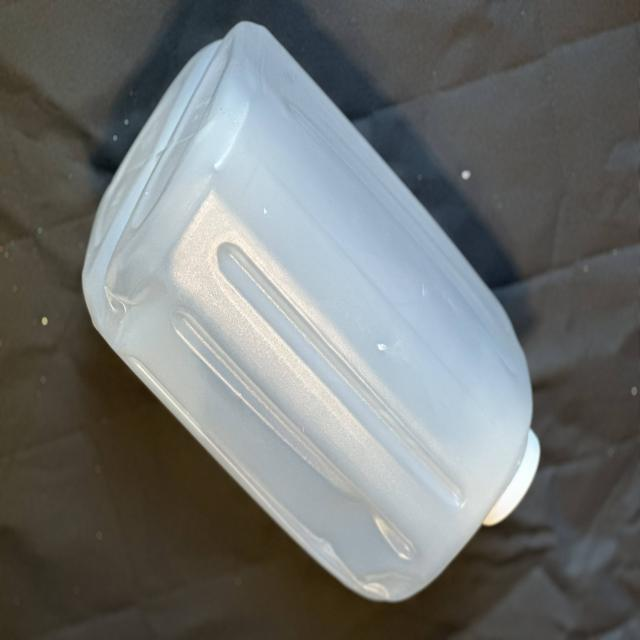milk-jug: (75, 18, 539, 603)
